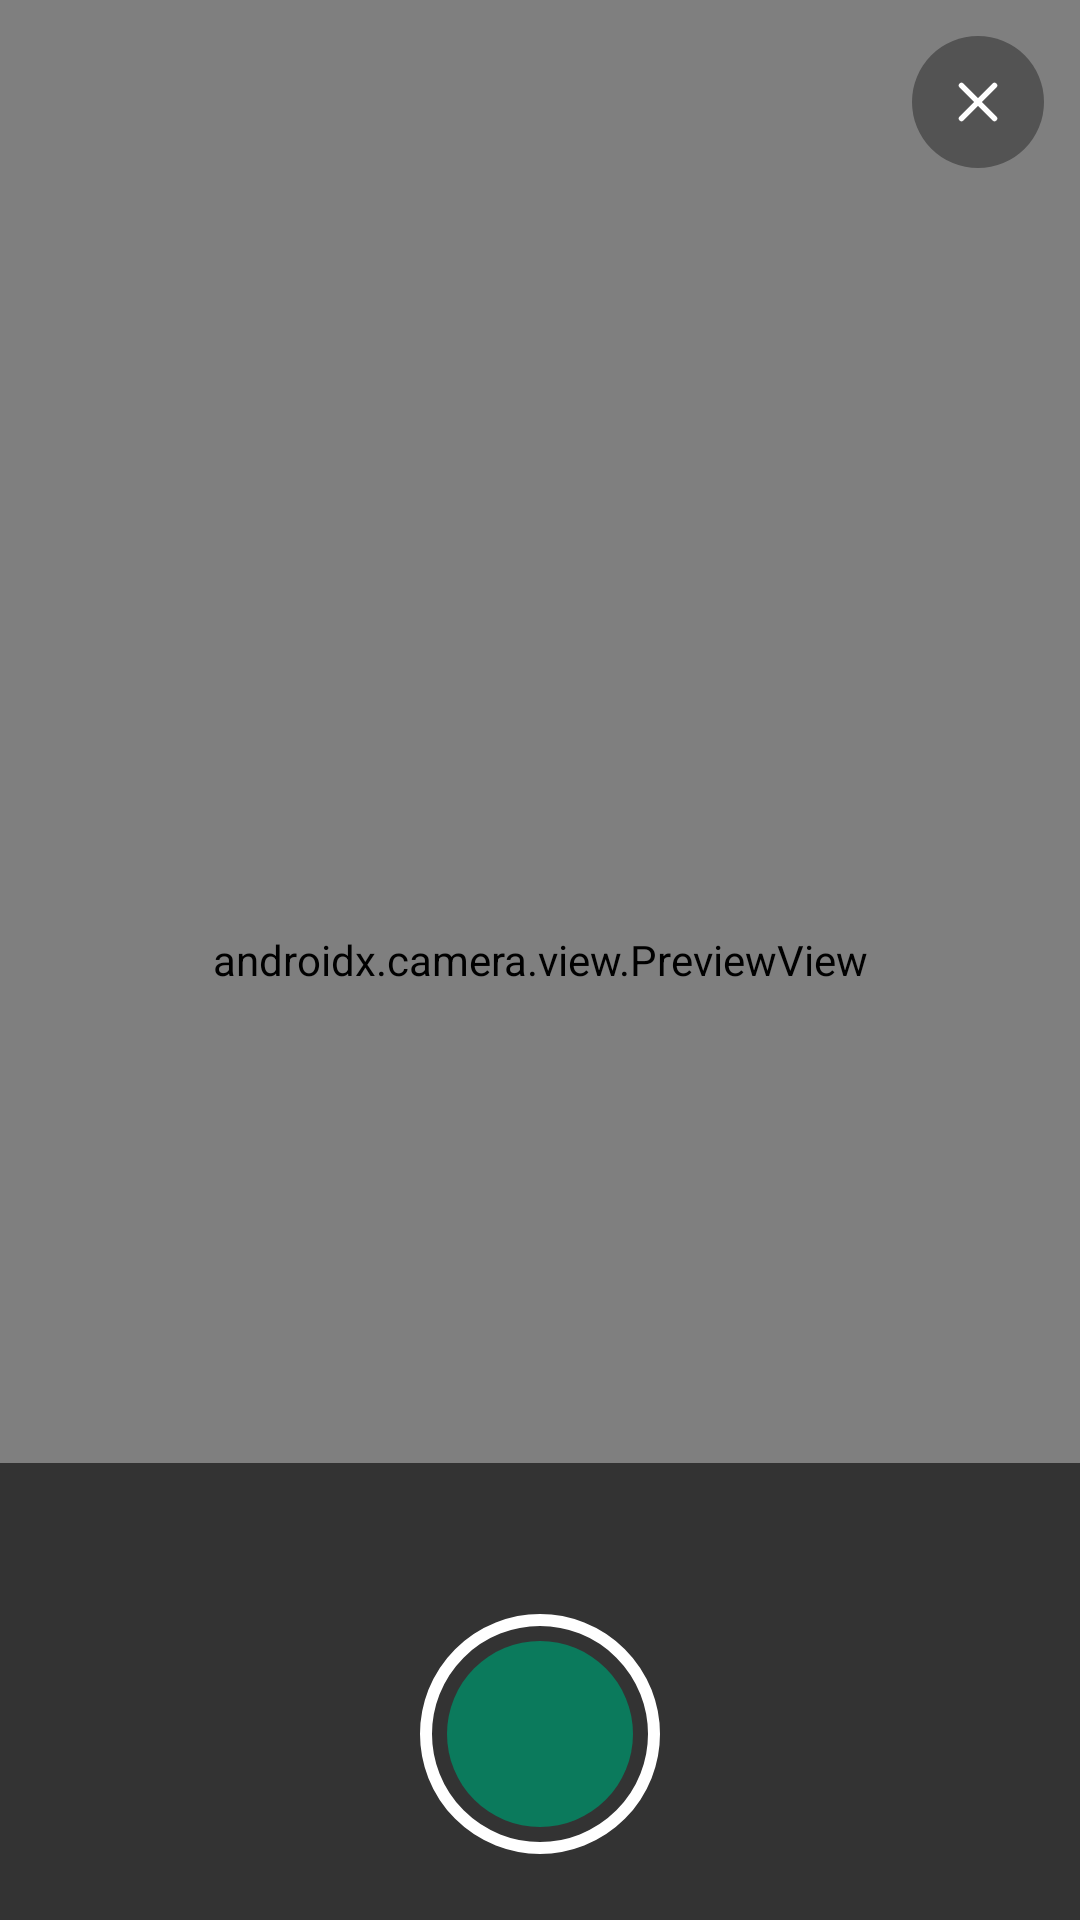

Icon bounding boxes for this 1080w x 1920h phone screenshot, format (x1, y1, x2, y2):
סגור: (912, 36, 1044, 168)
